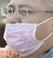mask_weared_incorrect: (1, 1, 53, 58)
